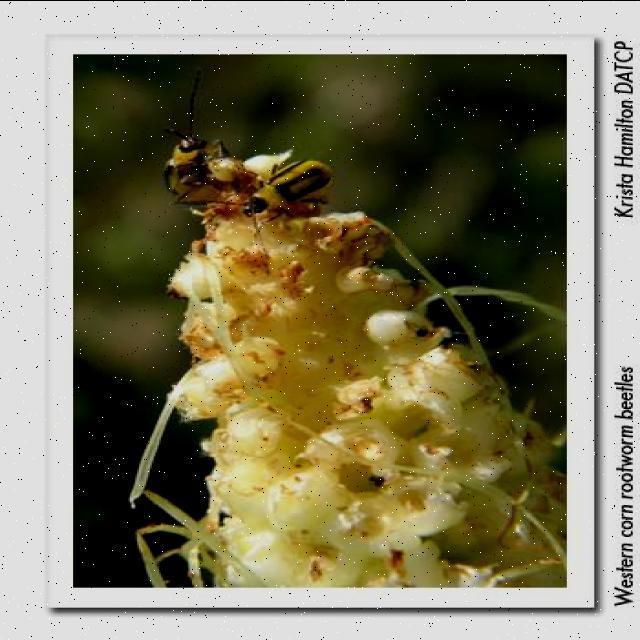trips: (159, 74, 255, 210), (176, 160, 332, 240)
